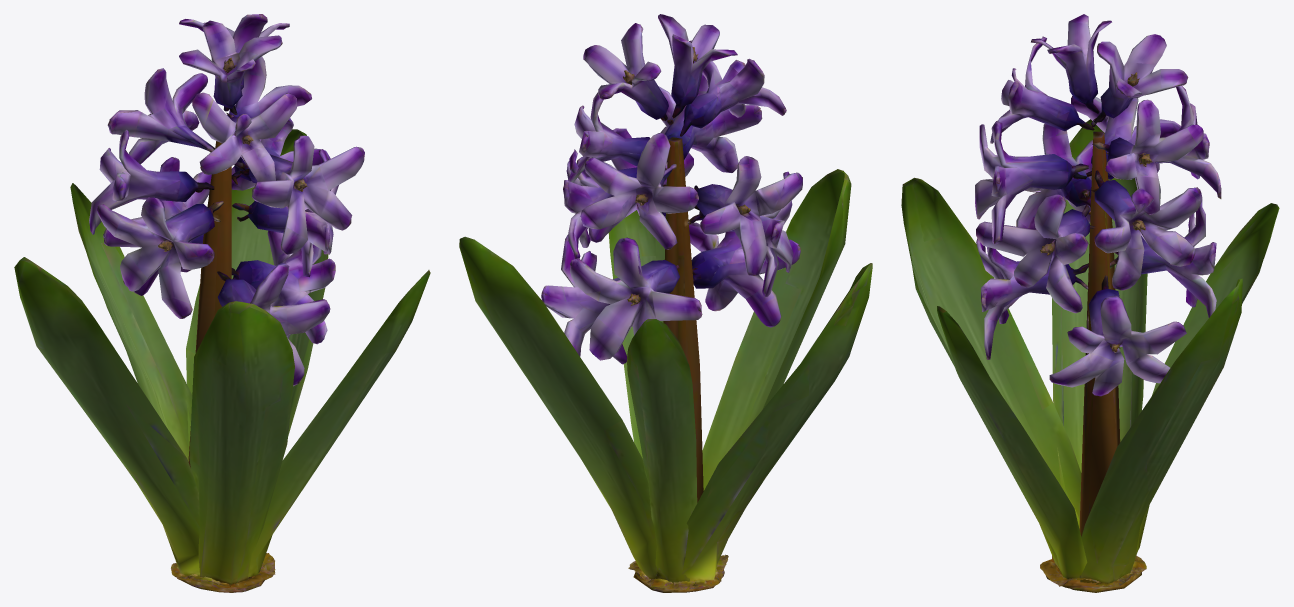
The model's file is FengXinXianHua.glb.
3 views of the same model, side by side, from view 1: azimuth 30°, elevation 25°; view 2: azimuth 150°, elevation 25°; view 3: azimuth 270°, elevation 25° (orthographic).
Parts seen in each view (by area): view 1: tripo_node_f593b56d-2163-4a43-a4ba-e42e9f7d3a70; view 2: tripo_node_f593b56d-2163-4a43-a4ba-e42e9f7d3a70; view 3: tripo_node_f593b56d-2163-4a43-a4ba-e42e9f7d3a70.
Boxes of the visible parts, x1=… form: tripo_node_f593b56d-2163-4a43-a4ba-e42e9f7d3a70: x1=14, y1=14, x2=430, y2=592; tripo_node_f593b56d-2163-4a43-a4ba-e42e9f7d3a70: x1=459, y1=14, x2=872, y2=592; tripo_node_f593b56d-2163-4a43-a4ba-e42e9f7d3a70: x1=901, y1=14, x2=1279, y2=592.
Size of the model in its own units: 0.6719 by 0.998 by 0.623.
Materials: 1 (1 with a texture image).
